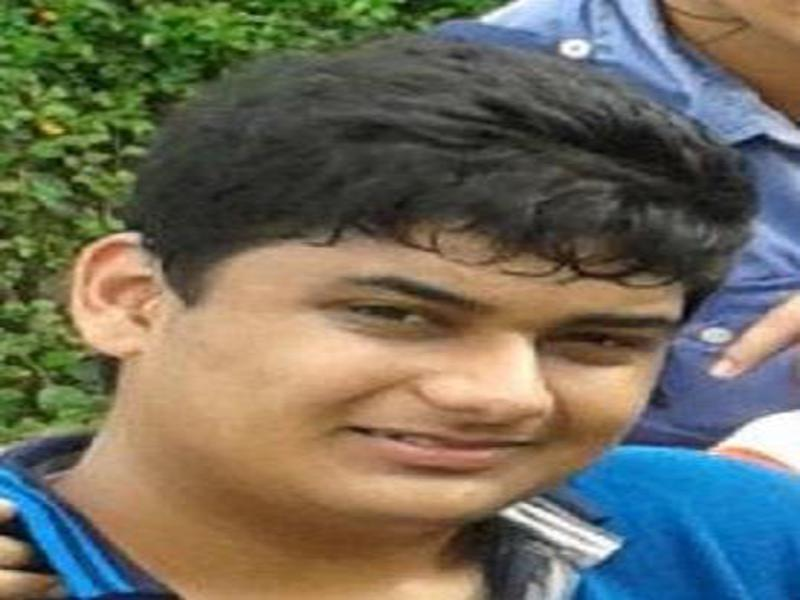without_mask: (165, 216, 682, 525)
